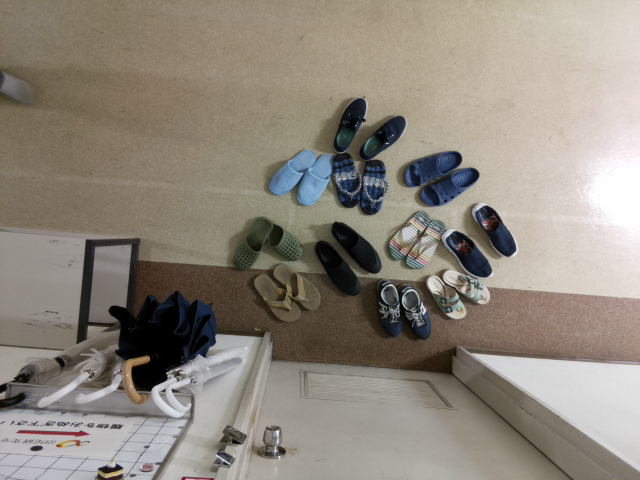Copy of Copy of Copy of Copy of Copy of Copy of Copy of Copy of Copy of Copy of: (330, 215, 382, 280), (313, 235, 365, 300), (267, 258, 324, 312), (251, 271, 305, 325), (228, 212, 274, 273), (384, 208, 433, 264), (391, 281, 436, 341), (400, 217, 446, 272), (356, 156, 396, 217), (329, 151, 368, 212), (254, 214, 307, 257), (371, 275, 406, 340)
Copy of Copy of Copy of Copy of Copy of Copy of Copy of Copy of Copy of shoe: (423, 272, 473, 323)
Copy of Copy of Copy of Copy of Copy of Copy of Copy of Copy of shoe: (440, 266, 493, 308)
Copy of Copy of Copy of Copy of Copy of Copy of Copy of shoe: (439, 223, 496, 282)
Copy of Copy of Copy of Copy of Copy of Copy of shoe: (465, 199, 522, 261)
Copy of Copy of Copy of Copy of Copy of shoe: (416, 163, 482, 209)
Copy of Copy of Copy of Copy of shoe: (397, 148, 467, 189)
Copy of Copy of Copy of shoe: (356, 110, 411, 164)
Copy of Copy of shoe: (329, 92, 371, 155)
Copy of shoe: (291, 150, 338, 208)
foot: (1, 66, 50, 110)
shoe: (264, 144, 319, 197)
